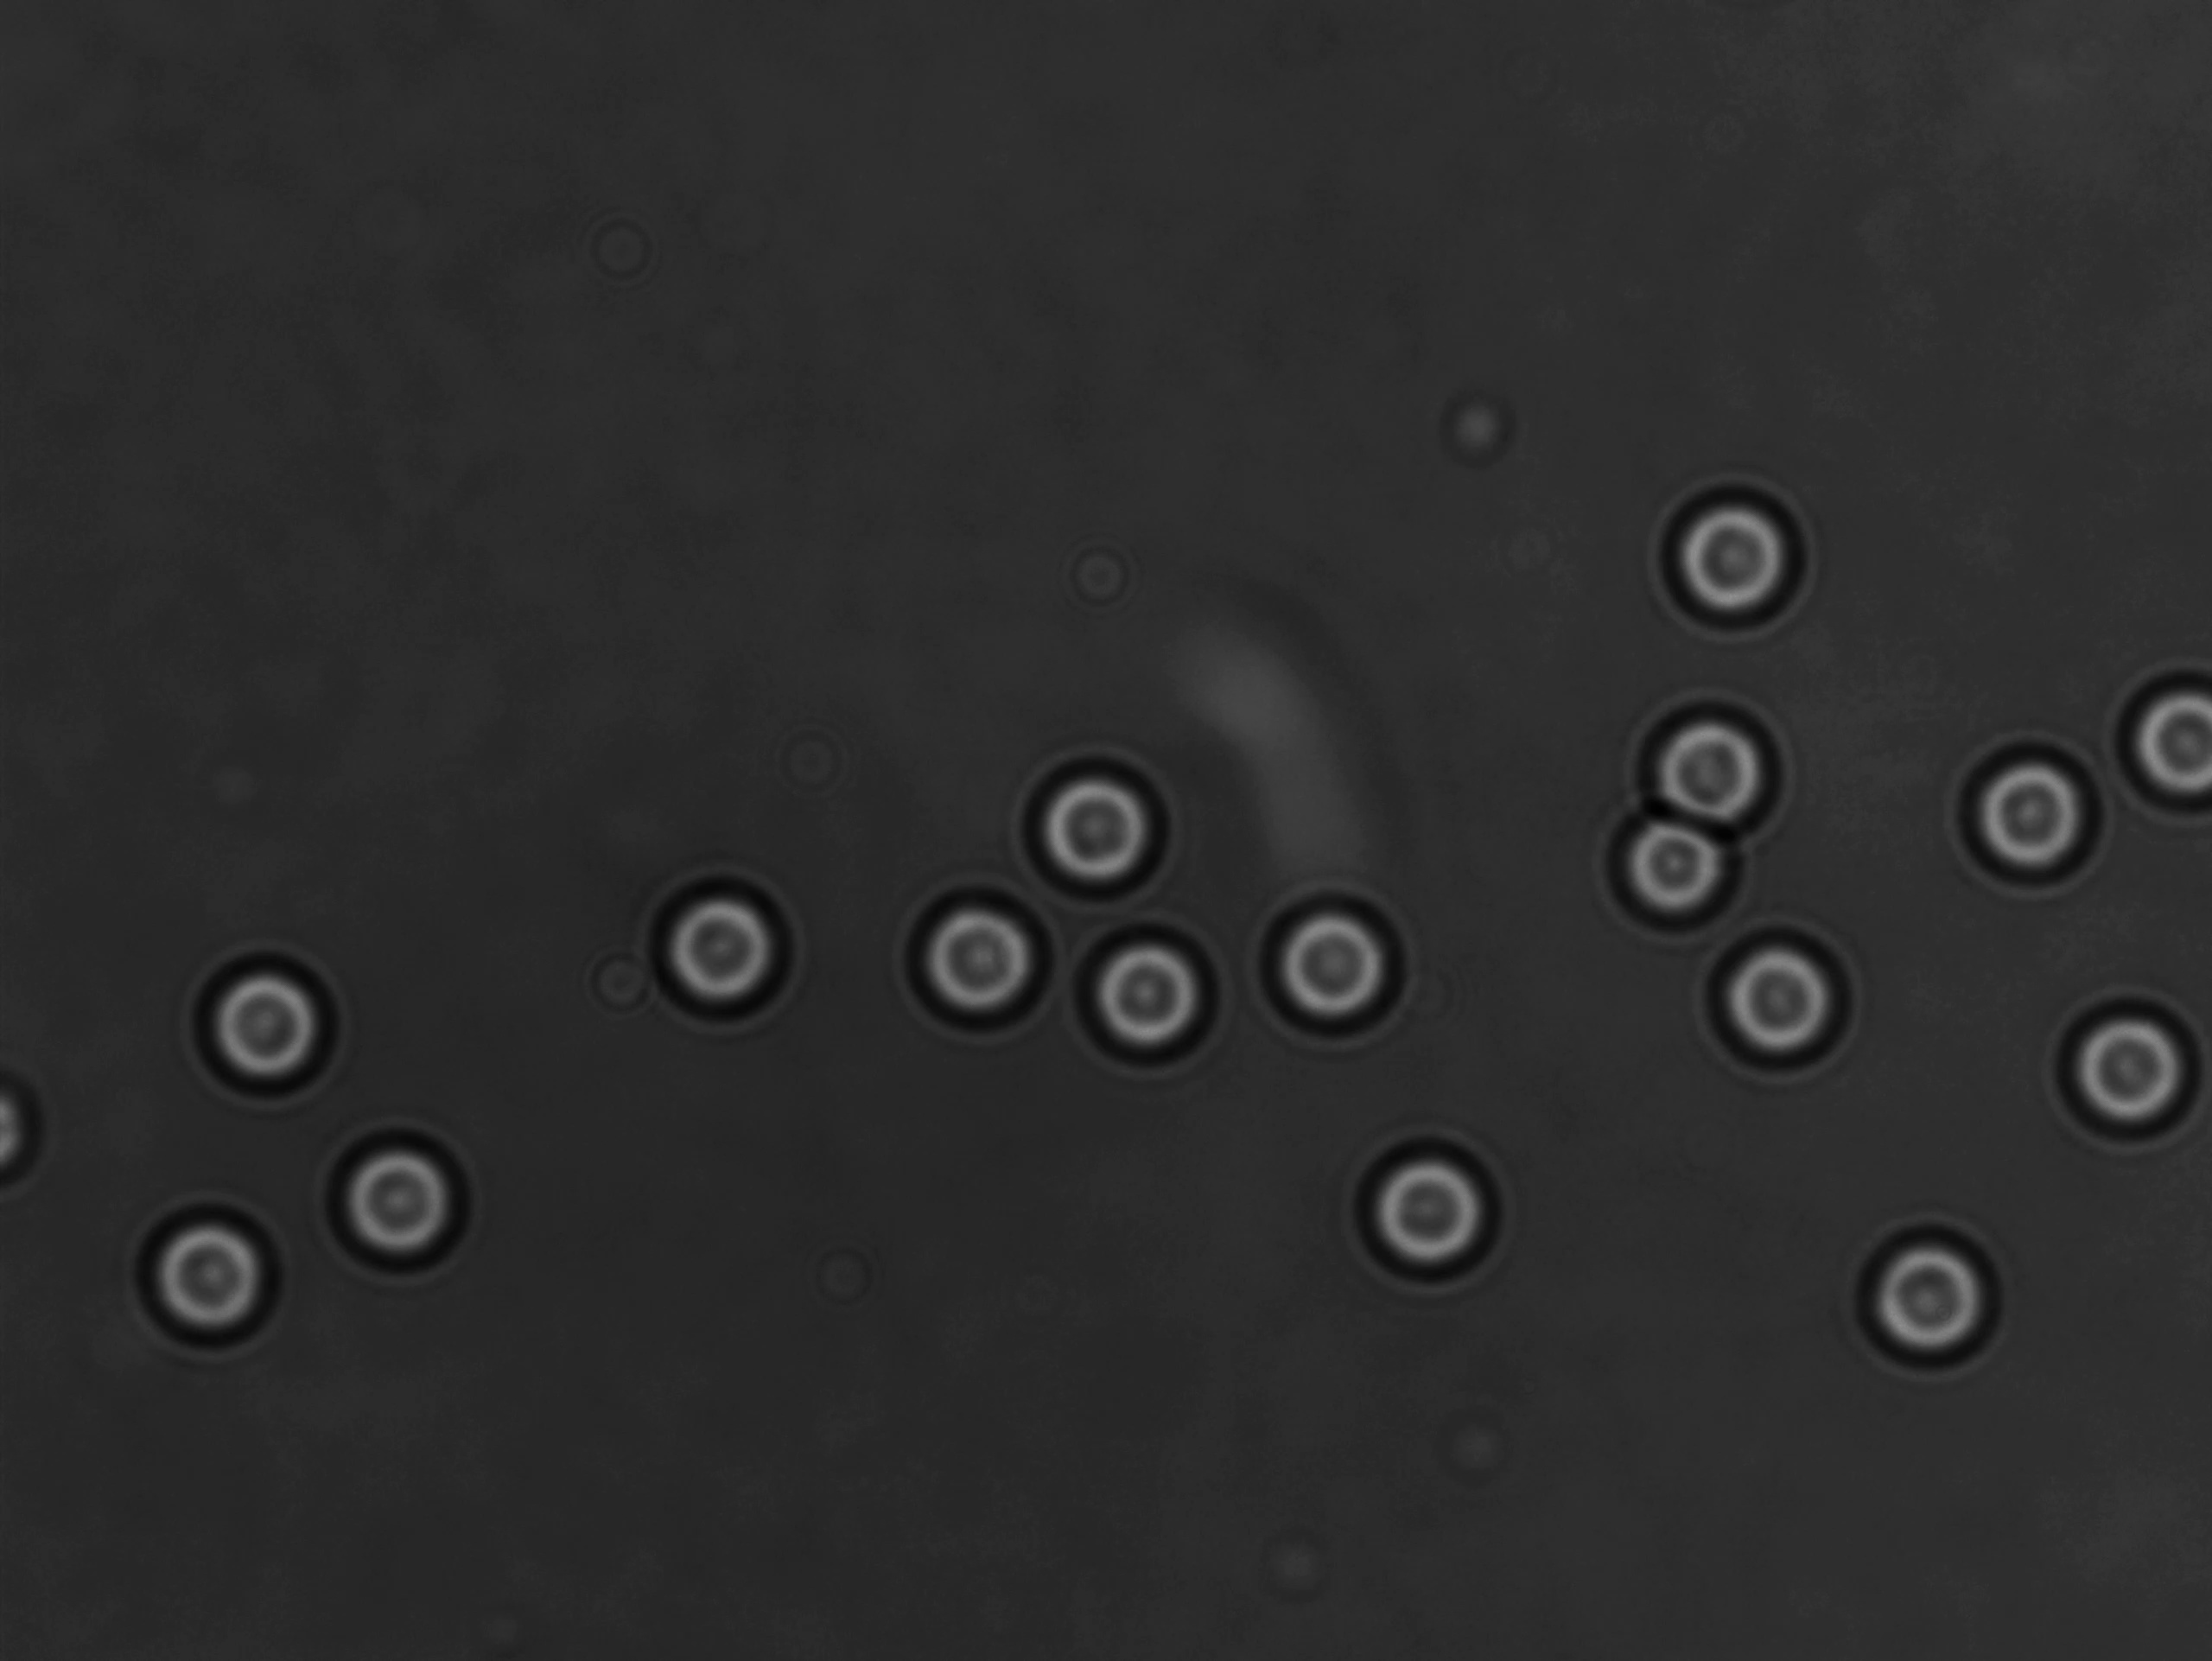depth:20: (1249, 872, 1429, 1057), (1846, 1202, 2025, 1384), (1062, 914, 1239, 1090), (1682, 914, 1867, 1075), (902, 867, 1080, 1033), (1631, 686, 1802, 857), (1942, 728, 2113, 897), (319, 1118, 495, 1282), (1645, 476, 1813, 644), (122, 1190, 288, 1356), (1343, 1127, 1504, 1296), (1015, 743, 1179, 907), (2058, 988, 2212, 1153), (185, 942, 345, 1099), (1593, 796, 1746, 954), (644, 867, 799, 1019), (2107, 646, 2212, 822)
